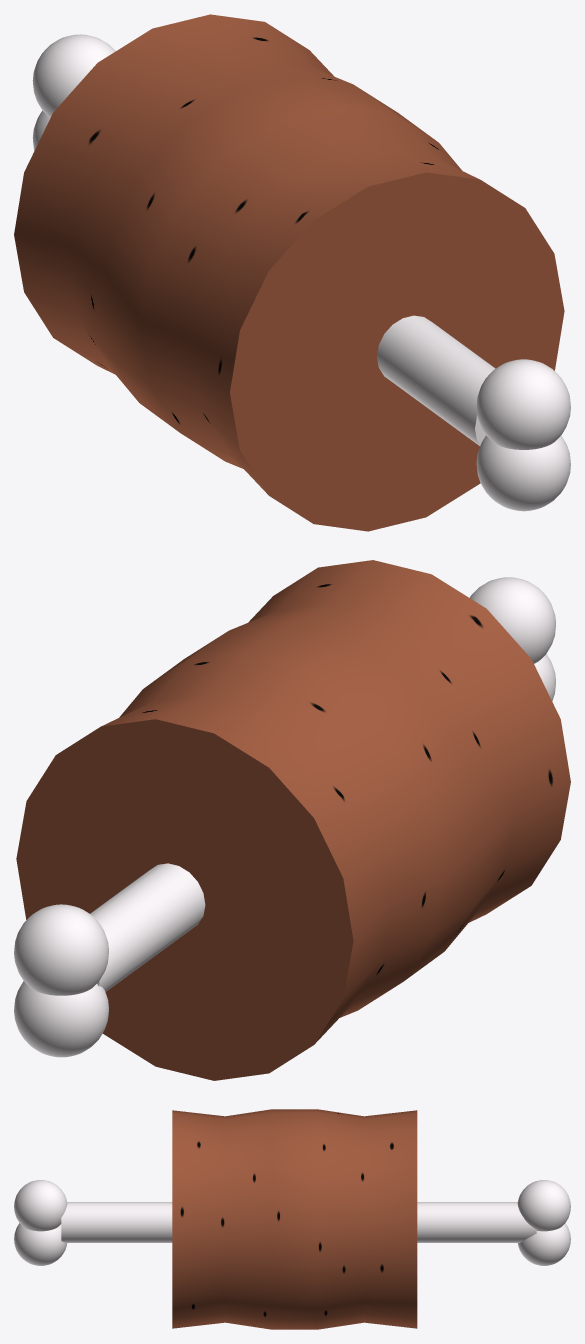
Rendered from Meat.fbx.
3 renders of one model, top to bottom at view 1: azimuth 30°, elevation 25°; view 2: azimuth 150°, elevation 25°; view 3: azimuth 270°, elevation 25°, orthographic. The views are drawn at different scales.
Visible parts, largest first — view 1: Cylinder001, Cylinder002, Sphere004, Sphere003, Sphere002; view 2: Cylinder001, Cylinder002, Sphere002, Sphere001, Sphere004; view 3: Cylinder001, Cylinder002, Sphere004, Sphere002, Sphere003, Sphere001.
Part boxes in pixels (x1,y1,x2,y2): Cylinder001: (14,14,564,531); Cylinder002: (377,315,495,445); Sphere004: (476,359,570,449); Sphere003: (476,435,570,511); Sphere002: (32,34,115,117); Cylinder001: (16,560,570,1080); Cylinder002: (90,863,205,991); Sphere002: (14,904,108,995); Sphere001: (14,981,108,1057); Sphere004: (470,577,555,663); Cylinder001: (172,1109,417,1329); Cylinder002: (61,1202,536,1242); Sphere004: (14,1180,67,1231); Sphere002: (517,1180,570,1231); Sphere003: (14,1223,67,1265); Sphere001: (517,1223,570,1265).
Size of the model in its own units: 6.07 by 5.98 by 15.3.
